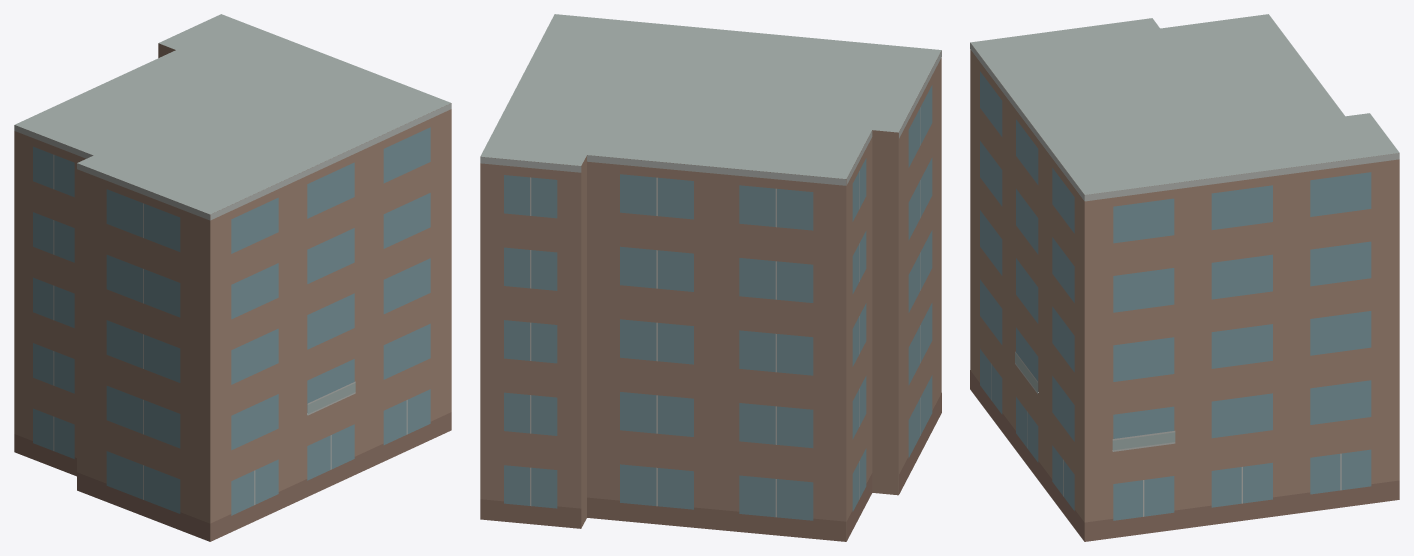
File: survey-upis-32568644.glb
3 views of the same model, side by side, from view 1: azimuth 30°, elevation 25°; view 2: azimuth 150°, elevation 25°; view 3: azimuth 270°, elevation 25° (orthographic). The views are drawn at different scales.
Parts seen in each view (by area): view 1: survey-upis-32568644.tmp; view 2: survey-upis-32568644.tmp; view 3: survey-upis-32568644.tmp.
Boxes of the visible parts, bbox=[...] form: survey-upis-32568644.tmp: bbox=[14, 14, 451, 541]; survey-upis-32568644.tmp: bbox=[480, 14, 941, 541]; survey-upis-32568644.tmp: bbox=[970, 14, 1399, 541].
Size of the model in its own units: 14.79 by 13.2 by 14.83.
